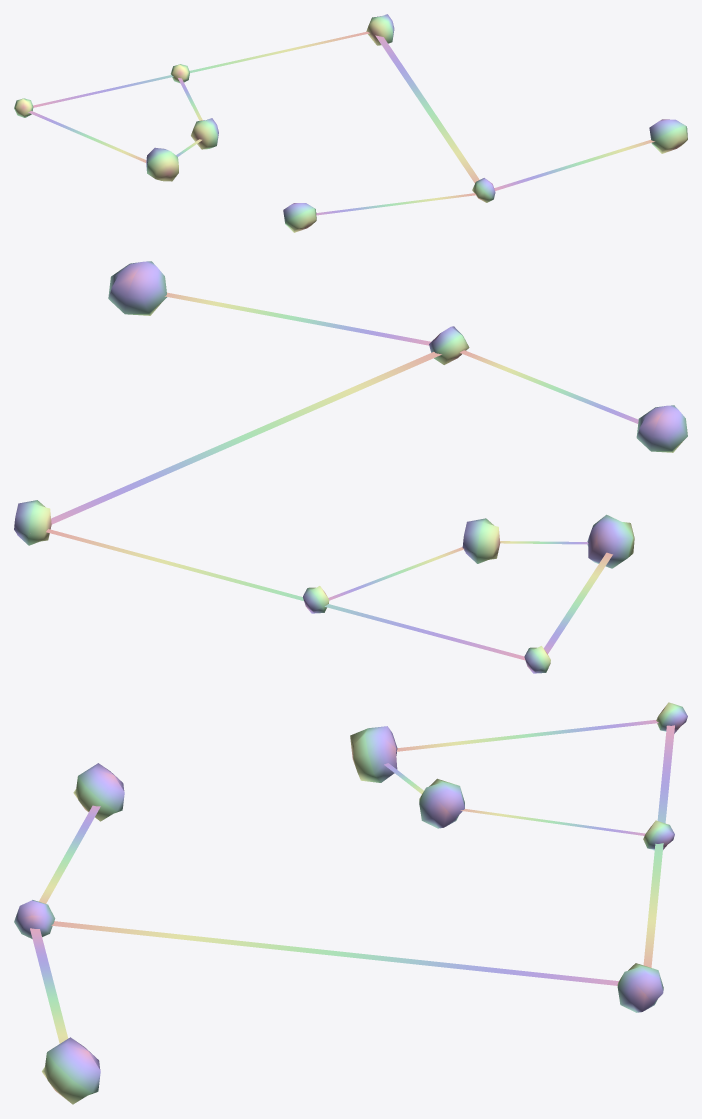
File: ChomTom.fbx
3 renders of one model, top to bottom at view 1: azimuth 30°, elevation 25°; view 2: azimuth 150°, elevation 25°; view 3: azimuth 270°, elevation 25°, orthographic. The views are drawn at different scales.
Visible parts, largest first — view 1: ChomTom; view 2: ChomTom; view 3: ChomTom.
Part boxes in pixels (<box>): ChomTom: <box>14,14,687,232</box>; ChomTom: <box>14,261,687,673</box>; ChomTom: <box>14,702,687,1104</box>.
Bounding box in the file's own units: 4.21 × 3.21 × 0.2821.
